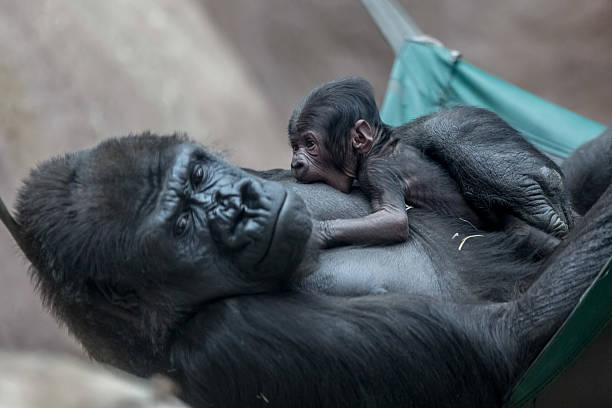gorille_Autres: (5, 118, 347, 408)
